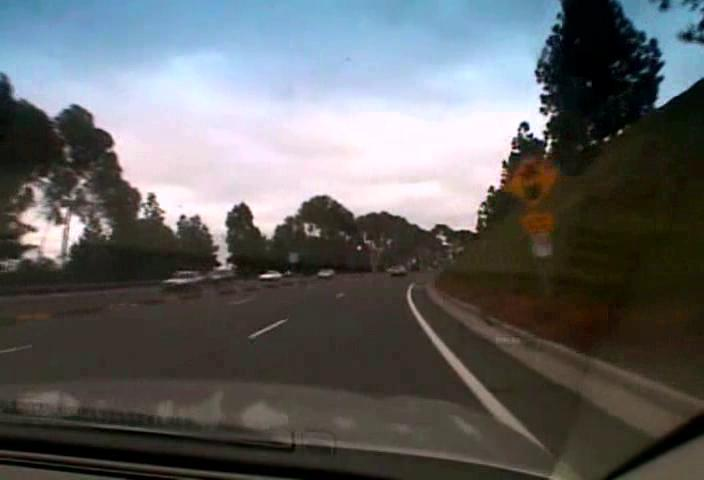signalAhead: (503, 152, 558, 206)
